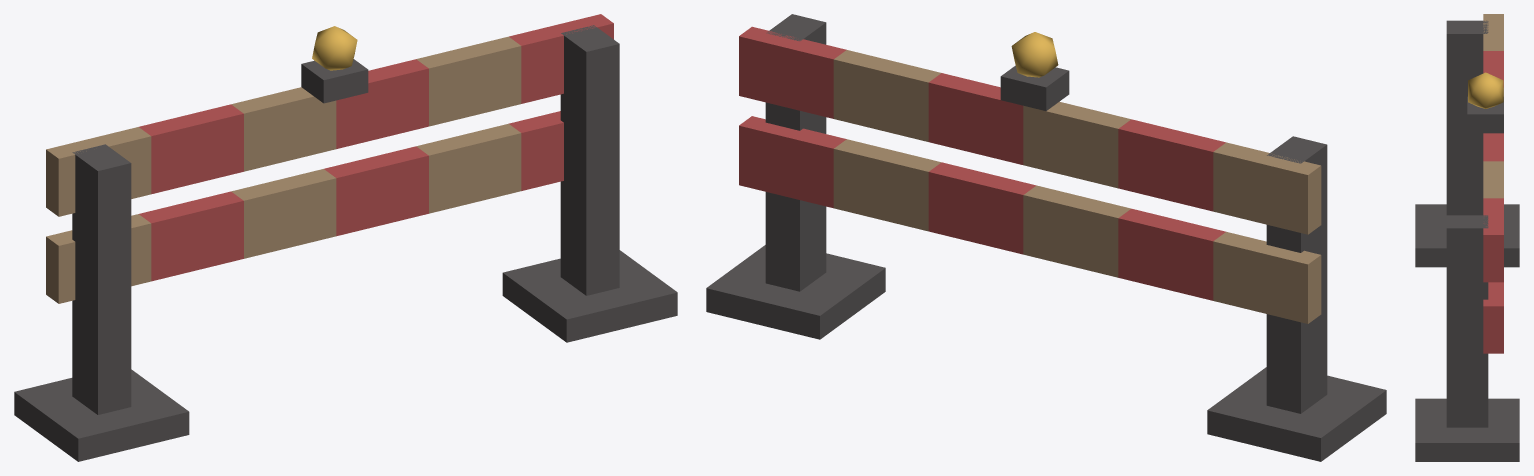
Rendered from noturno-barrier.glb.
3 renders of one model, left to right at view 1: azimuth 30°, elevation 25°; view 2: azimuth 150°, elevation 25°; view 3: azimuth 270°, elevation 25°, orthographic. The views are drawn at different scales.
Parts seen in each view (by area): view 1: noturno_barrier_body, noturno_barrier_glow; view 2: noturno_barrier_body, noturno_barrier_glow; view 3: noturno_barrier_body, noturno_barrier_glow.
Part boxes in pixels (box(x1,y1,x2,y2)): noturno_barrier_body: box(14, 14, 677, 461); noturno_barrier_glow: box(312, 26, 357, 70); noturno_barrier_body: box(706, 14, 1386, 461); noturno_barrier_glow: box(1011, 32, 1058, 77); noturno_barrier_body: box(1415, 14, 1519, 461); noturno_barrier_glow: box(1468, 72, 1503, 108).
Bounding box in the file's own units: 2.16 × 1.14 × 0.4.
